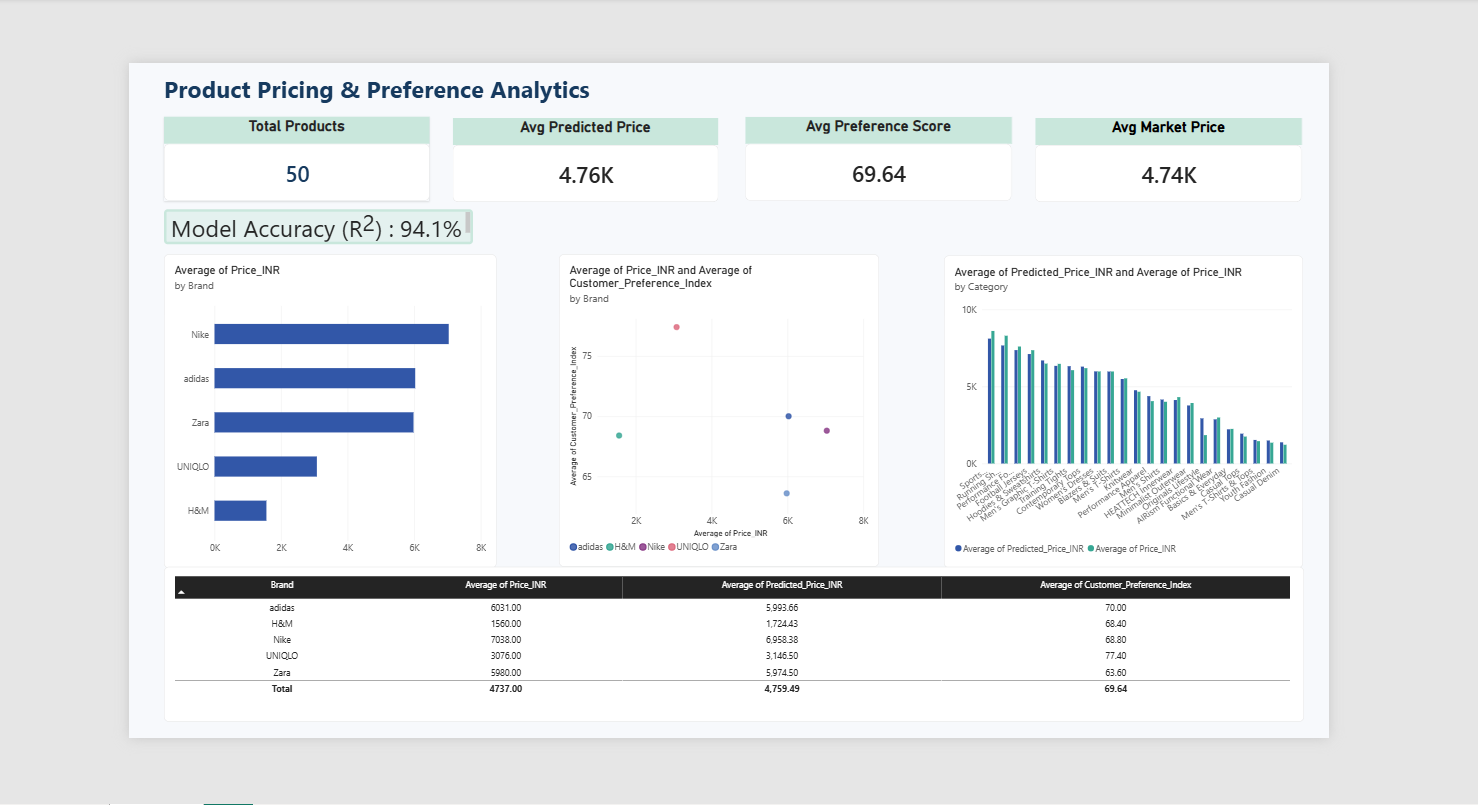

Layout of this report page (visuals, bound fields, positions):
{"tool":"powerbi","page":{"name":"Page 1","canvas":[1920,1080],"ordinal":0},"visuals":[{"type":"cardVisual","title":"Total Products","fields":{"Data":["CountNonNull(Sheet1.Product_Name)"]},"box":[56.7,86.7,425,135],"z":0},{"type":"cardVisual","title":"Avg Market Price","fields":{"Data":["Avg(Sheet1.Price_INR)"]},"box":[1450,88.3,426.7,135],"z":1000},{"type":"textbox","box":[56,234,494,56],"z":2000},{"type":"cardVisual","title":"Avg Preference Score","fields":{"Data":["Avg(Sheet1.Customer_Preference_Index)"]},"box":[986.7,86.7,426.7,135],"z":3000},{"type":"barChart","fields":{"Category":["Sheet1.Brand"],"Y":["Avg(Sheet1.Price_INR)"]},"box":[56,306,532,502],"z":4000},{"type":"scatterChart","fields":{"Series":["Sheet1.Brand"],"X":["Avg(Sheet1.Price_INR)"],"Y":["Avg(Sheet1.Customer_Preference_Index)"]},"box":[688,306,512,500],"z":5000},{"type":"clusteredColumnChart","fields":{"Category":["Sheet1.Category"],"Y":["Avg(Sheet1.Predicted_Price_INR)","Avg(Sheet1.Price_INR)"]},"box":[1304,308,574,500],"z":6000},{"type":"tableEx","fields":{"Values":["Sheet1.Brand","Avg(Sheet1.Price_INR)","Avg(Sheet1.Predicted_Price_INR)","Avg(Sheet1.Customer_Preference_Index)"]},"box":[56.7,806.7,1824,248],"z":7000},{"type":"cardVisual","title":"Avg Predicted Price","fields":{"Data":["Avg(Sheet1.Predicted_Price_INR)"]},"box":[518.3,88.3,425,135],"z":8000},{"type":"textbox","box":[56.7,16.7,911.7,55],"z":8001}]}

Visuals, with their boxes on the page's 1920x1080 design canvas (x1, y1, x2, y2). These are canvas units, not pixel positions in the 1478x805 screenshot, which may show the page scaled, cropped or inside an application window:
"Total Products" cardVisual: left=57, top=87, right=482, bottom=222
"Avg Market Price" cardVisual: left=1450, top=88, right=1877, bottom=223
textbox: left=56, top=234, right=550, bottom=290
"Avg Preference Score" cardVisual: left=987, top=87, right=1413, bottom=222
barChart - Sheet1.Brand x Avg(Sheet1.Price_INR): left=56, top=306, right=588, bottom=808
scatterChart - Sheet1.Brand x Avg(Sheet1.Price_INR): left=688, top=306, right=1200, bottom=806
clusteredColumnChart - Sheet1.Category x Avg(Sheet1.Predicted_Price_INR): left=1304, top=308, right=1878, bottom=808
tableEx - Sheet1.Brand x Avg(Sheet1.Price_INR): left=57, top=807, right=1881, bottom=1055
"Avg Predicted Price" cardVisual: left=518, top=88, right=943, bottom=223
textbox: left=57, top=17, right=968, bottom=72
